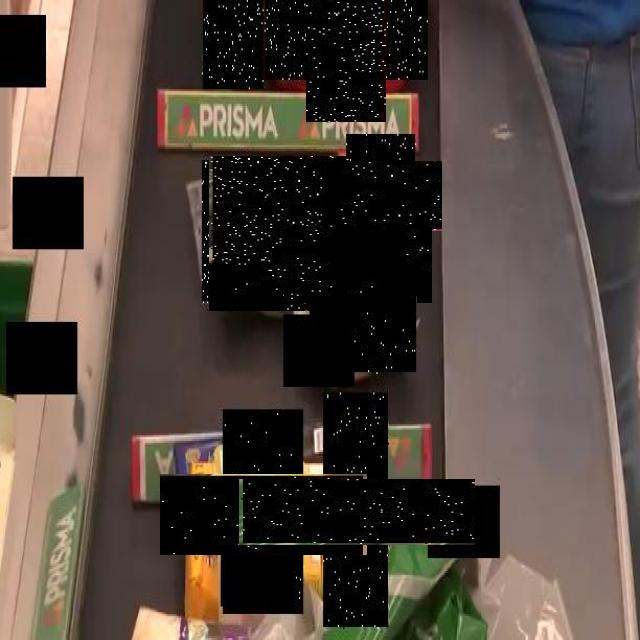beverage: (285, 0, 406, 101)
food-box: (205, 159, 354, 308), (301, 207, 414, 321), (334, 149, 430, 244), (310, 296, 417, 376), (201, 0, 263, 89)
utility-box: (281, 437, 433, 588), (192, 442, 336, 587)
